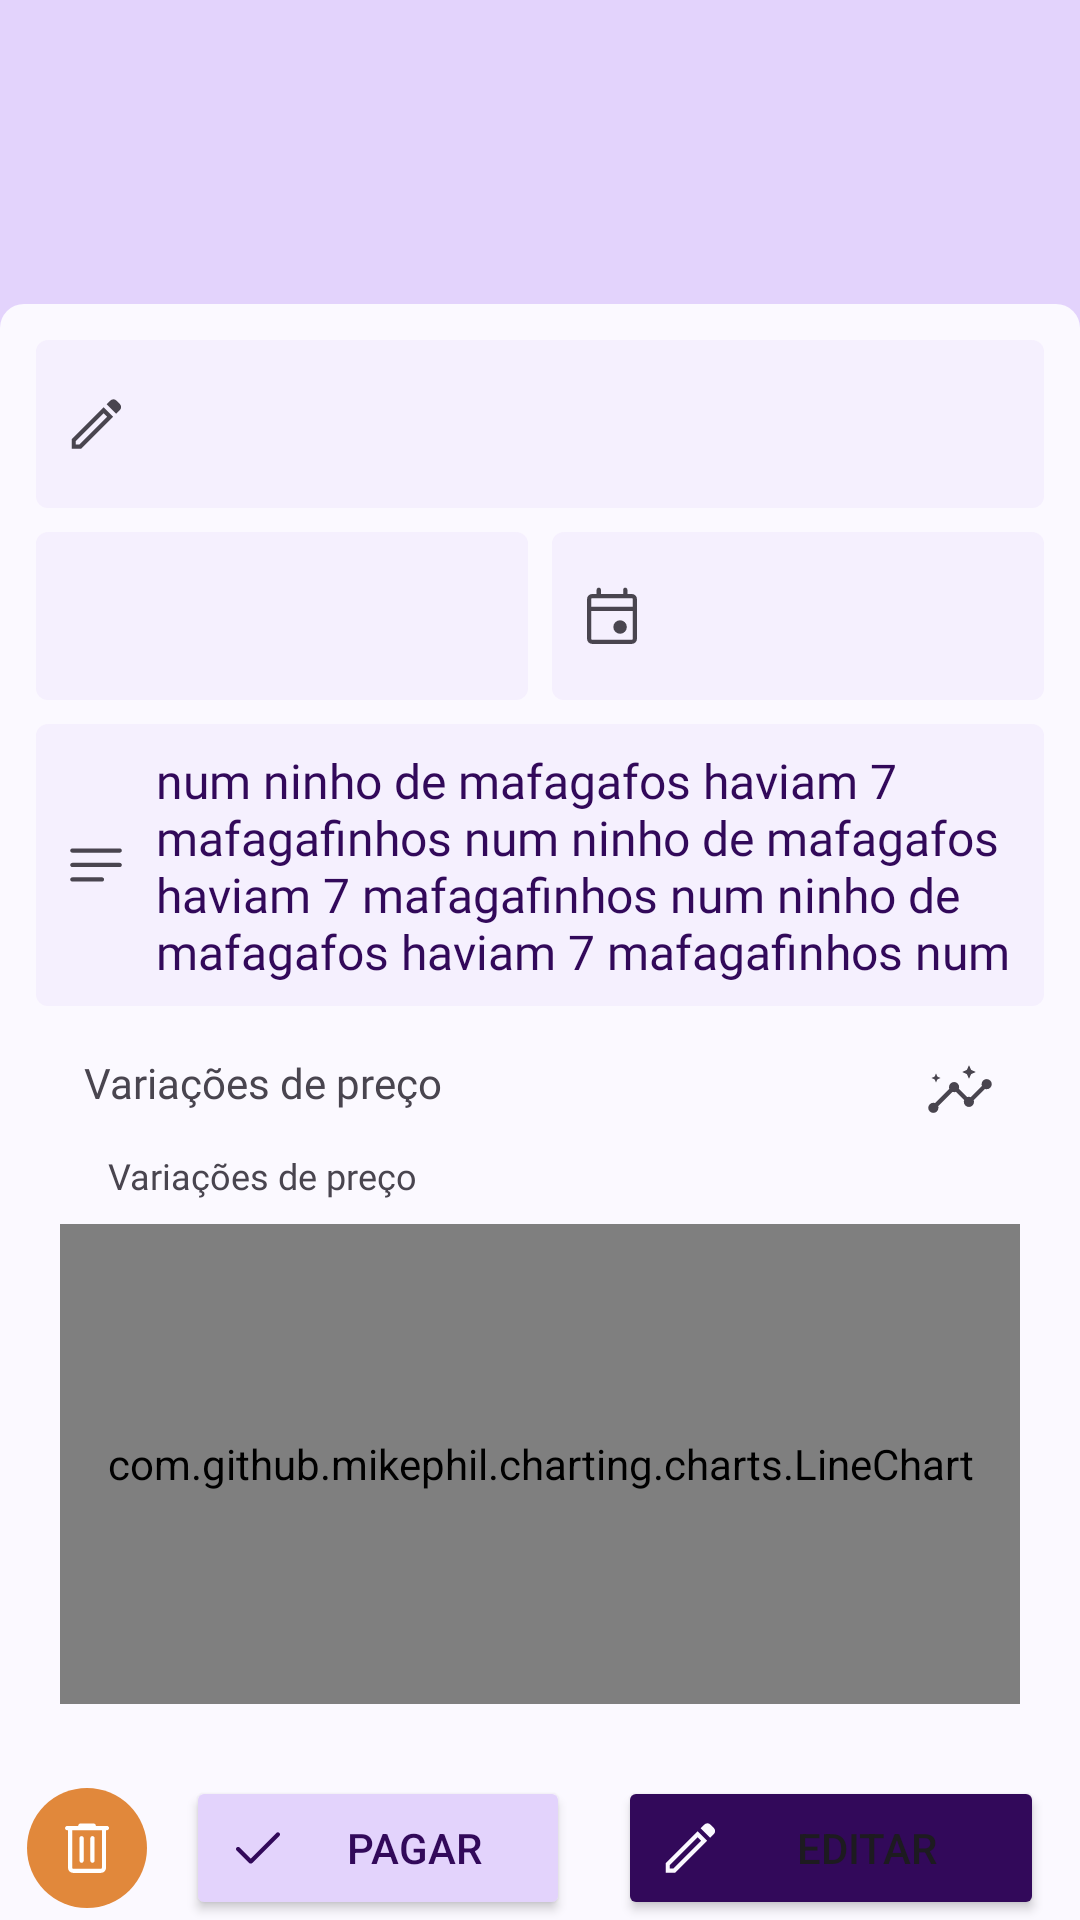

Named icons in this screenshot (1080x1920) and their centers, (x,y):
insight: (960,1089)
remover: (87,1848)
